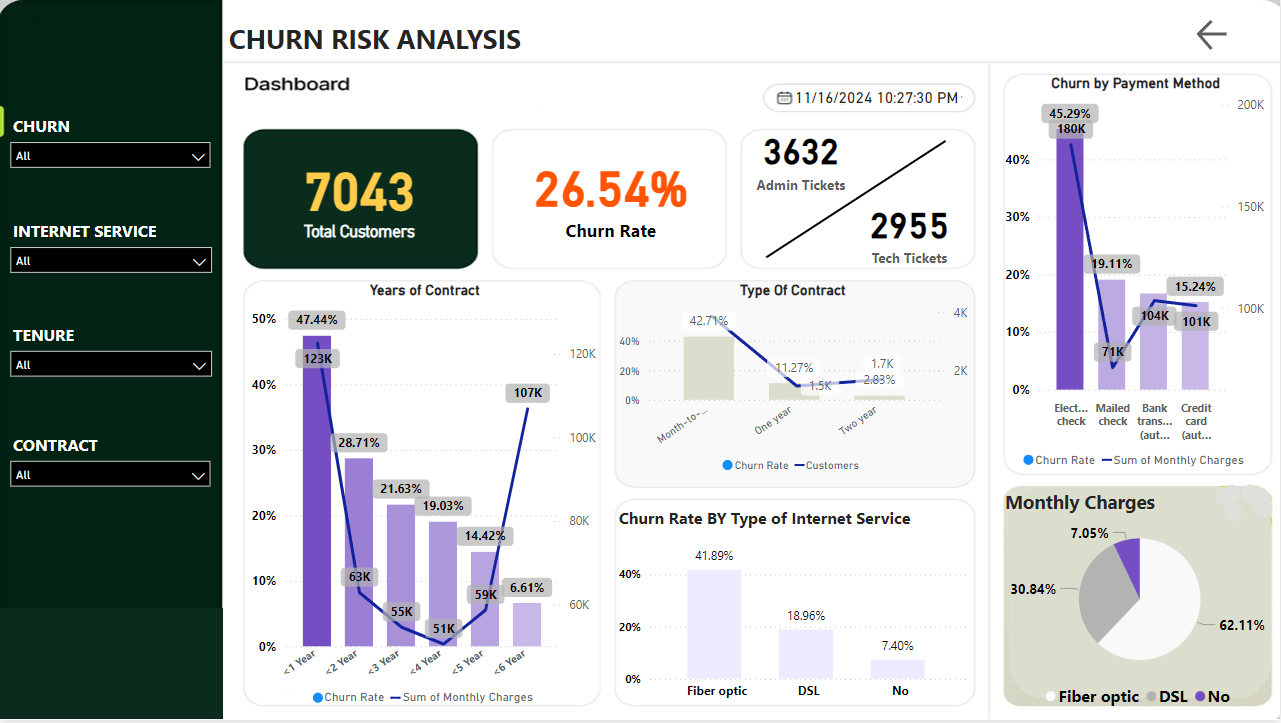

The page's visual inventory and layout, read from the dashboard file:
{"tool":"powerbi","page":{"name":"Page 3","canvas":[1280,720],"ordinal":1},"visuals":[{"type":"slicer","fields":{"Values":["Churn.Churn"]},"box":[0,103.8,220.8,73.6],"z":0},{"type":"slicer","fields":{"Values":["Churn.InternetService"]},"box":[0,208.7,222,72.4],"z":1000},{"type":"slicer","fields":{"Values":["Churn.tenure"]},"box":[0,312.5,222,78.4],"z":2000},{"type":"slicer","fields":{"Values":["Churn.Contract"]},"box":[0,422.3,220.8,73.6],"z":3000},{"type":"card","fields":{"Values":["CountNonNull(01 Churn-Dataset.customerID)"]},"box":[246.1,129.1,226.8,142.4],"z":4000},{"type":"card","fields":{"Values":["Churn.% Churn Rate"]},"box":[504.3,129.1,214.7,142.4],"z":5000},{"type":"card","fields":{"Values":["Sum(Churn.numAdminTickets)"]},"box":[710.6,118.2,182.2,88.1],"z":6000},{"type":"card","fields":{"Values":["Sum(Churn.numTechTickets)"]},"box":[813.1,193,191.8,88.1],"z":7000},{"type":"columnChart","title":"Churn Rate BY Type of Internet Service","fields":{"Y":["Churn.% Churn Rate"],"Category":["Churn.InternetService"]},"box":[614.1,495.8,358.3,212.3],"z":8000},{"type":"pieChart","title":"Monthly Charges","fields":{"Category":["Churn.InternetService"],"Y":["Sum(Churn.MonthlyCharges)"]},"box":[1000.1,479,279.9,237.7],"z":9000},{"type":"lineStackedColumnComboChart","title":"Type Of Contract","fields":{"Y2":["CountNonNull(Churn.customerID)"],"Y":["Churn.% Churn Rate"],"Category":["Churn.Contract"]},"box":[614.1,271.4,358.3,212.3],"z":10000},{"type":"lineStackedColumnComboChart","title":"Years of Contract","fields":{"Y":["Churn.% Churn Rate"],"Y2":["Sum(Churn.MonthlyCharges)"],"Category":["Churn.Tenure(in years)"]},"box":[246.1,271.4,357.1,445.2],"z":11000},{"type":"lineStackedColumnComboChart","title":"Churn by Payment Method","fields":{"Y":["Churn.% Churn Rate"],"Y2":["Sum(Churn.MonthlyCharges)"],"Category":["Churn.PaymentMethod"]},"box":[1000.1,63.9,271.4,415],"z":12000},{"type":"shape","box":[744.4,139.9,224.4,118.2],"z":13000},{"type":"card","fields":{"Values":["Min(DATE.LAST REFRESH DATE)"]},"box":[720.2,66.4,313.7,65.1],"z":14000},{"type":"textbox","box":[223.2,14.5,313.7,51.9],"z":15000},{"type":"actionButton","box":[1192.5,15,47.5,40],"z":15001}]}

Visuals, with their boxes on the page's 1280x720 design canvas (x1, y1, x2, y2). These are canvas units, not pixel positions in the 1281x723 screenshot, which may show the page scaled, cropped or inside an application window:
slicer - Churn.Churn: l=0, t=104, r=221, b=177
slicer - Churn.InternetService: l=0, t=209, r=222, b=281
slicer - Churn.tenure: l=0, t=312, r=222, b=391
slicer - Churn.Contract: l=0, t=422, r=221, b=496
card - CountNonNull(01 Churn-Dataset.customerID): l=246, t=129, r=473, b=272
card - Churn.% Churn Rate: l=504, t=129, r=719, b=272
card - Sum(Churn.numAdminTickets): l=711, t=118, r=893, b=206
card - Sum(Churn.numTechTickets): l=813, t=193, r=1005, b=281
"Churn Rate BY Type of Internet Service" columnChart: l=614, t=496, r=972, b=708
"Monthly Charges" pieChart: l=1000, t=479, r=1280, b=717
"Type Of Contract" lineStackedColumnComboChart: l=614, t=271, r=972, b=484
"Years of Contract" lineStackedColumnComboChart: l=246, t=271, r=603, b=717
"Churn by Payment Method" lineStackedColumnComboChart: l=1000, t=64, r=1272, b=479
shape: l=744, t=140, r=969, b=258
card - Min(DATE.LAST REFRESH DATE): l=720, t=66, r=1034, b=132
textbox: l=223, t=14, r=537, b=66
actionButton: l=1192, t=15, r=1240, b=55
